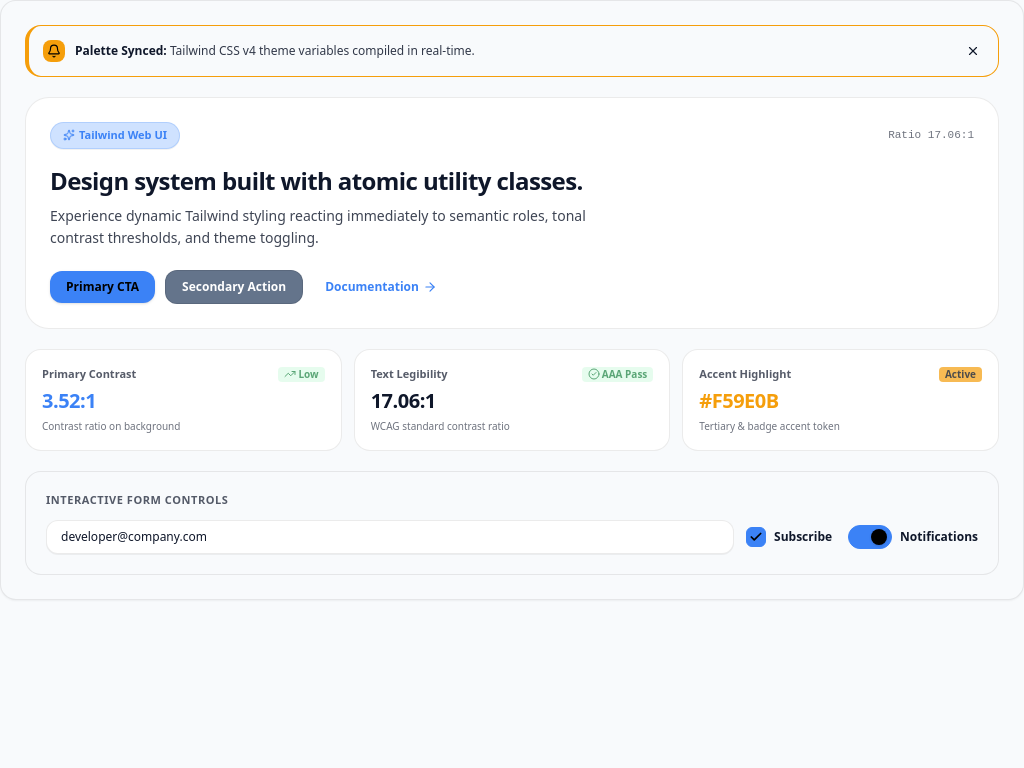
Test case: TailwindWebPreview (TT-010) › handles button click counter on primary CTA
The width and height of the screenshot is (1024, 768).
What coordinates should you click on to do the following:
click the button with test id "tailwind-btn-primary"
I would click on:
 (103, 287)
Its box is [50,271,155,303].
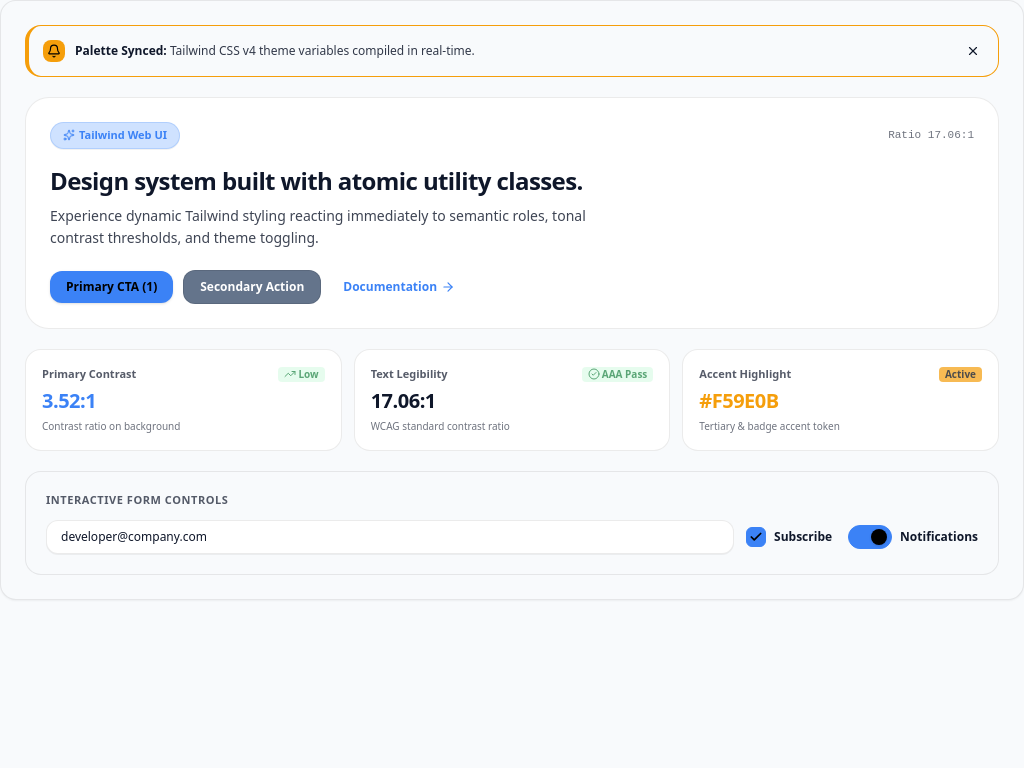
Result: the button with test id "tailwind-btn-primary" reads "Primary CTA (1)"
What coordinates should you click on to do the following:
click the button with test id "tailwind-btn-primary"
I would click on:
 (112, 287)
Its box is [50,271,173,303].
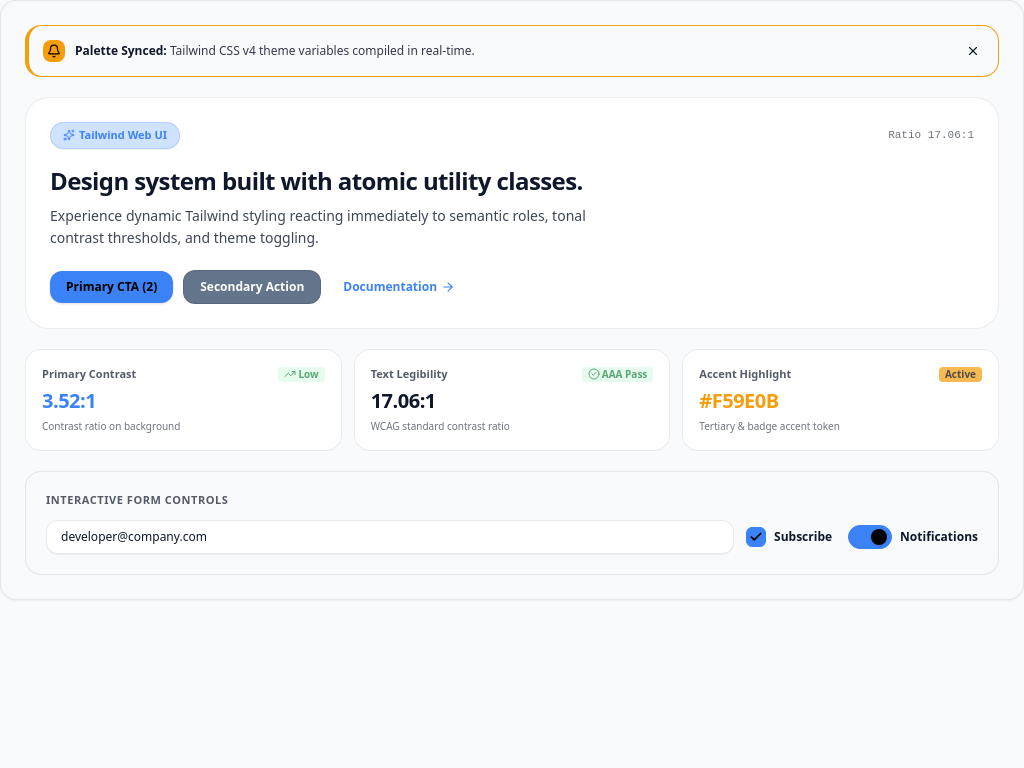
Result: the button with test id "tailwind-btn-primary" reads "Primary CTA (2)" at [50,271,173,303]
